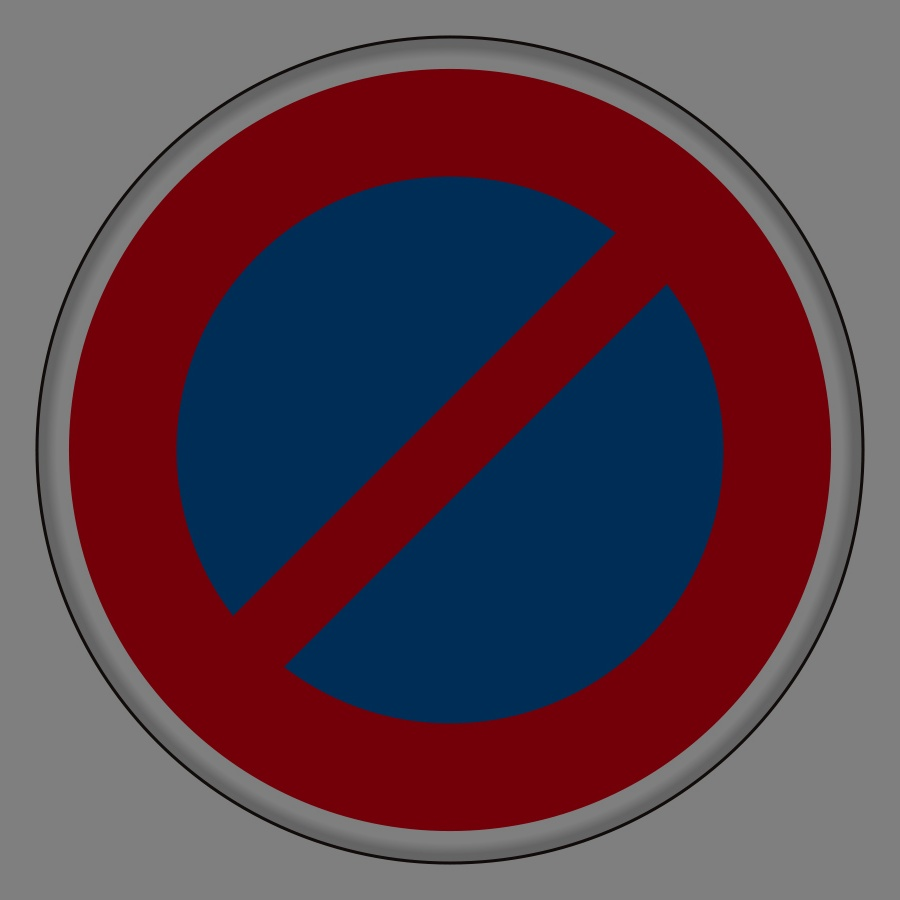Prohibition_sign: (28, 25, 882, 876)
